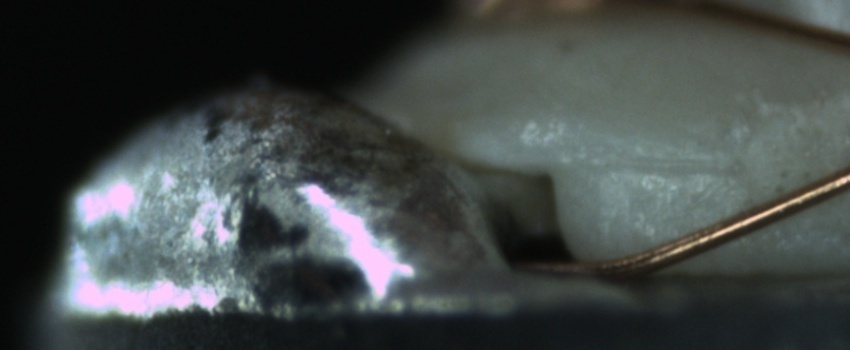DL: (594, 134, 739, 199)
